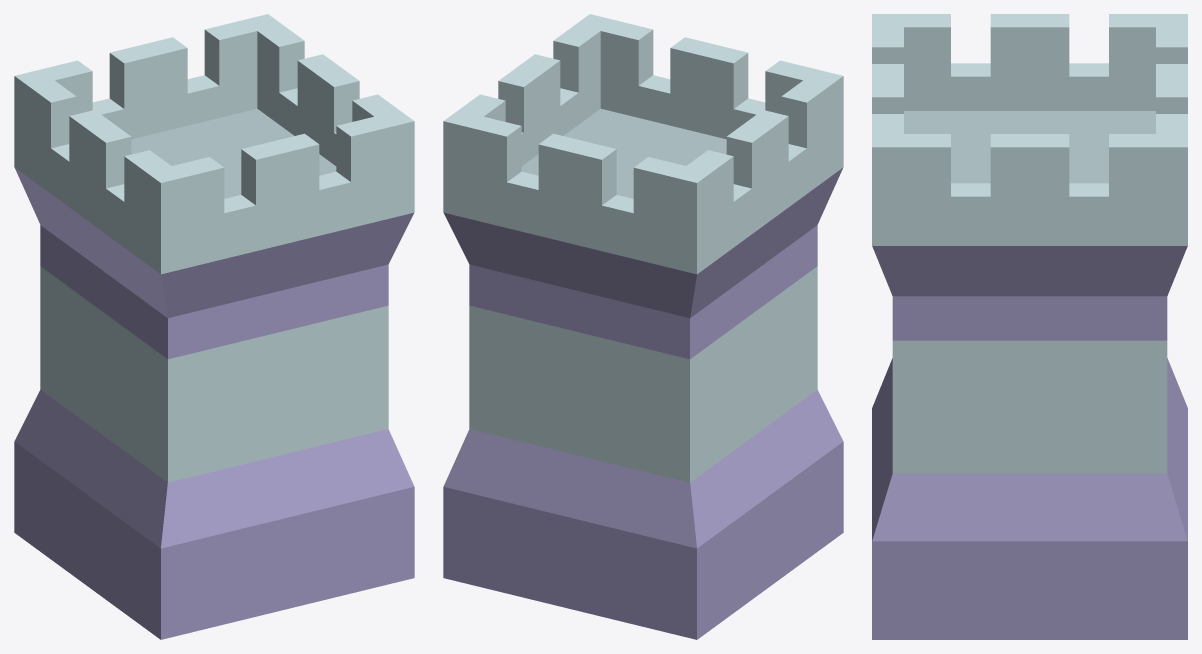
File: tower_medium.glb
The picture shows the model from 3 angles, left to right: view 1: azimuth 30°, elevation 25°; view 2: azimuth 150°, elevation 25°; view 3: azimuth 270°, elevation 25°; orthographic projection. The views are drawn at different scales.
Parts seen in each view (by area): view 1: towerSquare_sampleA; view 2: towerSquare_sampleA; view 3: towerSquare_sampleA.
Boxes of the visible parts, <box> form: towerSquare_sampleA: <box>14,14,414,639</box>; towerSquare_sampleA: <box>443,14,843,639</box>; towerSquare_sampleA: <box>872,14,1187,639</box>.
Size of the model in its own units: 0.4437 by 0.7637 by 0.4437.
